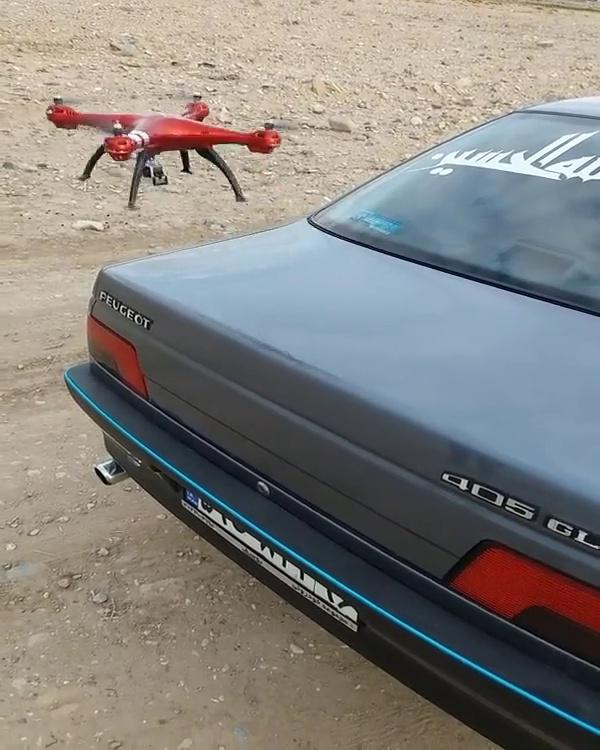drone: (29, 84, 310, 209)
